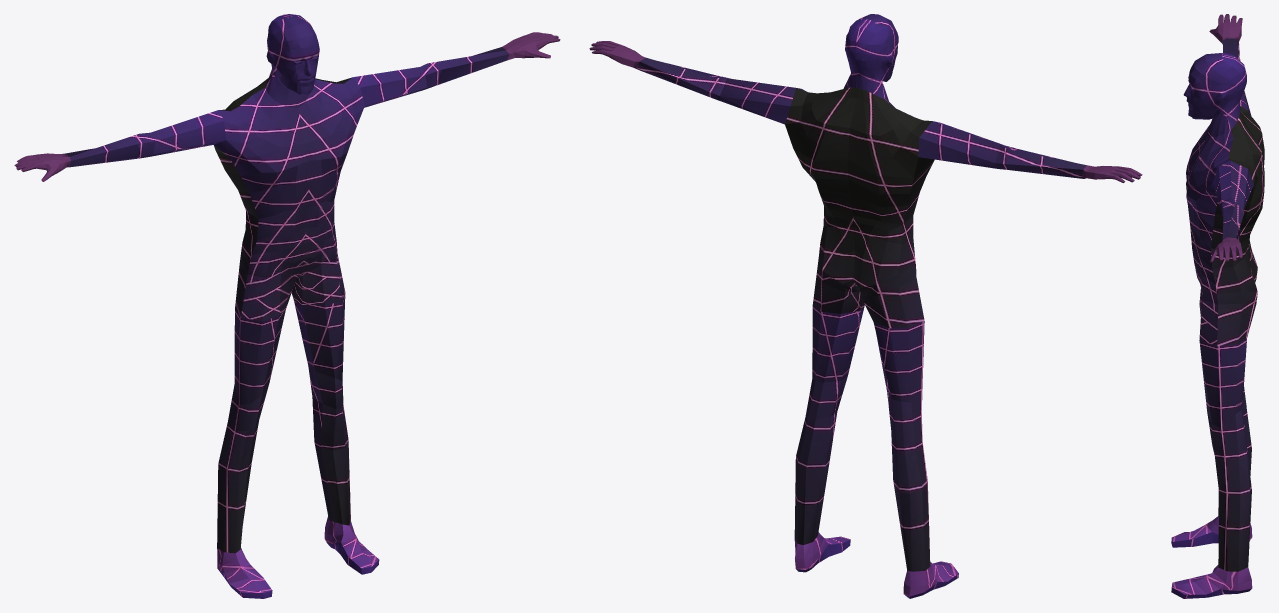
The model's file is testMeshMaterial8.glb.
3 views of the same model, side by side, from view 1: azimuth 30°, elevation 25°; view 2: azimuth 150°, elevation 25°; view 3: azimuth 270°, elevation 25° (orthographic). The views are drawn at different scales.
Visible parts, largest first — view 1: tronToon.001; view 2: tronToon.001; view 3: tronToon.001.
Boxes of the visible parts, x1,y1,x2,y2 form: tronToon.001: [14, 14, 560, 598]; tronToon.001: [589, 14, 1142, 598]; tronToon.001: [1171, 14, 1264, 598].
Bounding box in the file's own units: 7.17 × 6.96 × 1.15.
1 material, 1 textured.
